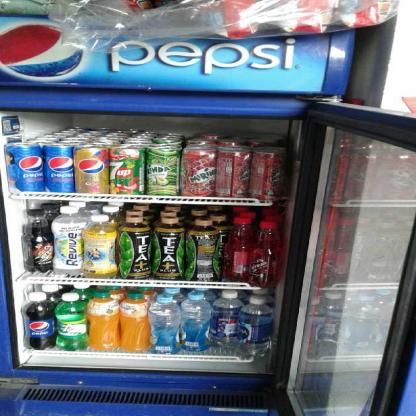7up: (107, 146, 145, 196)
7up-chai: (52, 291, 91, 352)
aquafina: (236, 295, 271, 360), (209, 290, 239, 354)
goodmood: (178, 289, 211, 354), (147, 294, 179, 355)
mirinda-sodakem: (144, 145, 181, 198)
mirinda-xaxi: (212, 146, 252, 200), (179, 147, 217, 200), (246, 150, 284, 202)
olong-tea: (115, 212, 152, 279), (184, 217, 221, 284), (150, 216, 186, 282)
pepsi-blue: (3, 141, 46, 194), (42, 141, 74, 193)
pepsi-blue-chai: (18, 291, 56, 351)
pepsi-yellow: (71, 143, 108, 194)
revive-chanhmuoi-chai: (81, 213, 118, 279)
revive-white-chai: (50, 206, 84, 276)
sting-cafe-chai: (19, 208, 54, 275)
sting-red-chai: (250, 218, 281, 287), (222, 215, 252, 281)
twister-cam: (84, 290, 121, 352), (117, 290, 150, 353)
